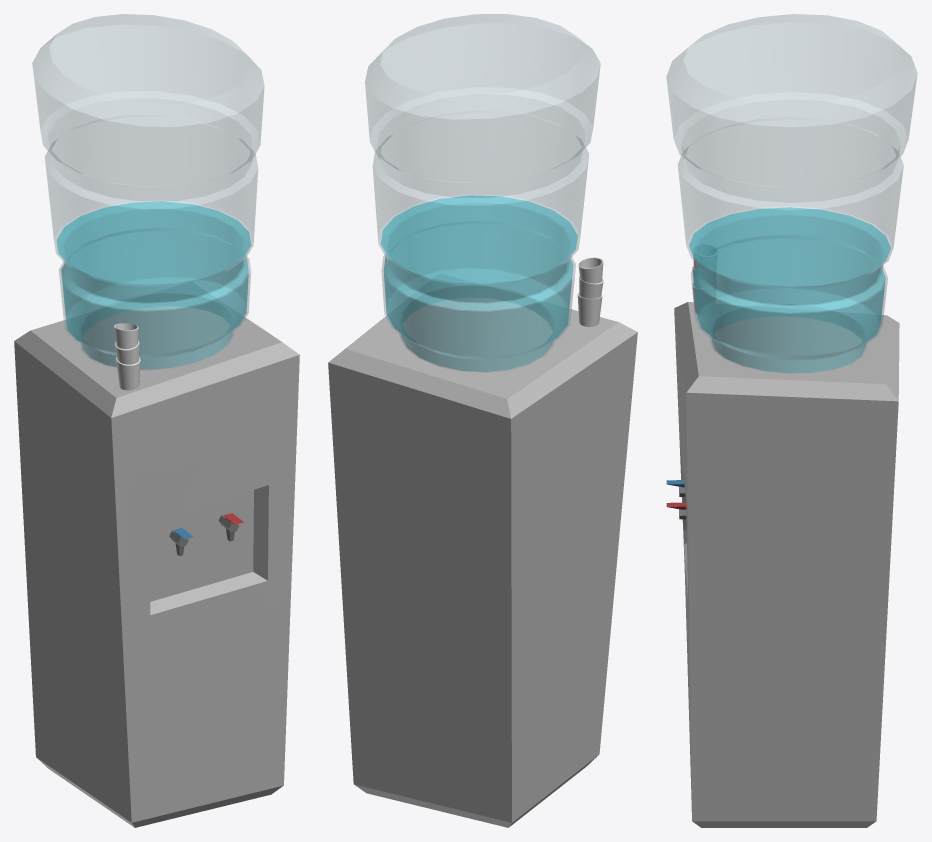
The model's file is WaterCooler.fbx.
3 renders of one model, left to right at view 1: azimuth 30°, elevation 25°; view 2: azimuth 150°, elevation 25°; view 3: azimuth 270°, elevation 25°, orthographic.
Parts seen in each view (by area): view 1: Water_Cooler_Main, pCylinder2, Water, Cup_01, Cup_03; view 2: Water_Cooler_Main, pCylinder2, Water, Cup_01, Cup_03; view 3: Water_Cooler_Main, pCylinder2, Water.
Part boxes in pixels (x1,y1,x2,y2): Water_Cooler_Main: [14, 305, 299, 827]; pCylinder2: [32, 14, 264, 370]; Water: [56, 201, 250, 369]; Cup_01: [116, 357, 140, 390]; Cup_03: [114, 323, 138, 348]; Water_Cooler_Main: [328, 296, 637, 827]; pCylinder2: [365, 14, 600, 372]; Water: [381, 195, 577, 371]; Cup_01: [577, 293, 602, 326]; Cup_03: [578, 257, 603, 283]; Water_Cooler_Main: [674, 302, 899, 827]; pCylinder2: [666, 14, 917, 373]; Water: [689, 207, 890, 372].
Bounding box in the file's own units: 1.14 × 3.97 × 1.23.
